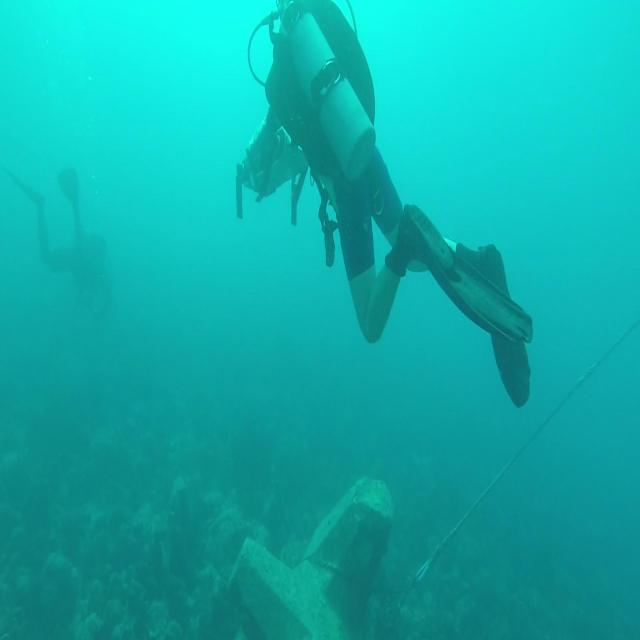human: (236, 0, 534, 409), (4, 161, 113, 317)
